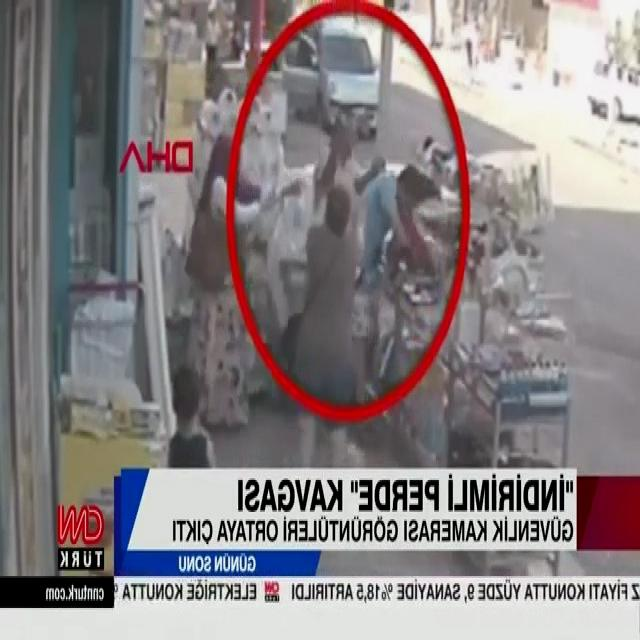fight: (270, 101, 441, 389)
